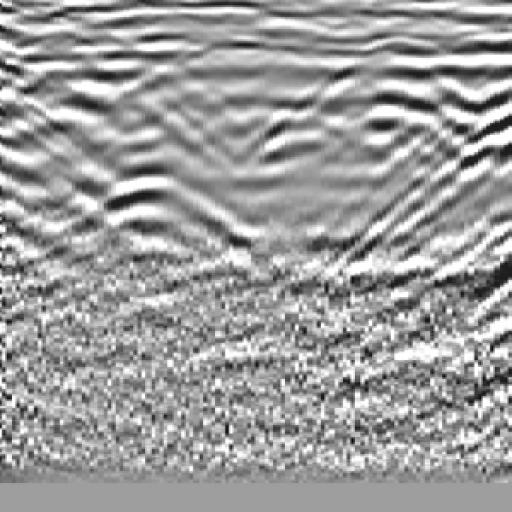metalic: (65, 42, 253, 290)
